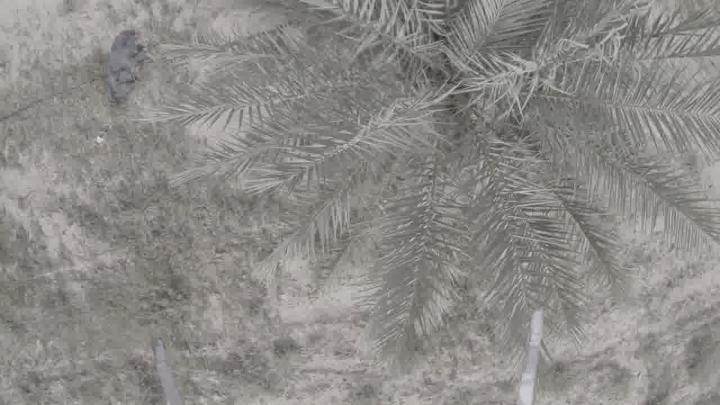Date-Palm-Crown: (334, 0, 618, 214)
